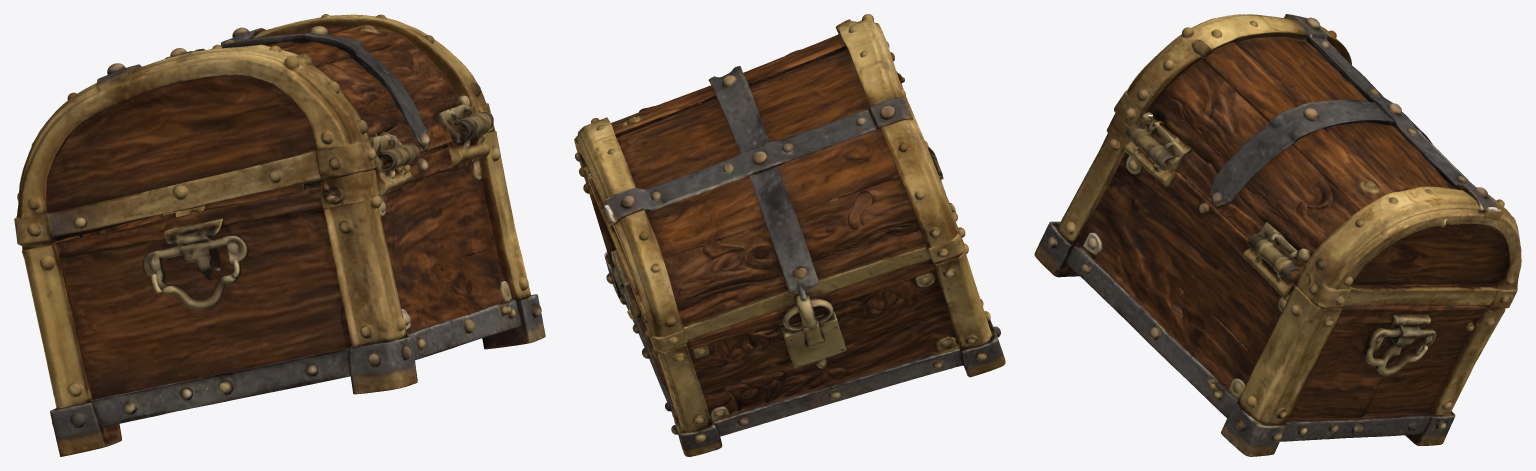
Rendered from chest.glb.
3 views of the same model, side by side, from view 1: azimuth 30°, elevation 25°; view 2: azimuth 150°, elevation 25°; view 3: azimuth 270°, elevation 25° (orthographic). The views are drawn at different scales.
Bounding box in the file's own units: 0.9041 × 0.818 × 0.9375.
Materials: 1 (1 with a texture image).
